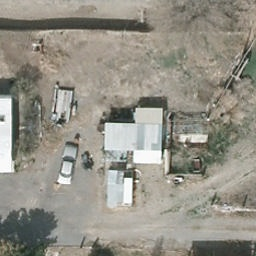camping car: (0, 94, 16, 175)
car: (55, 139, 80, 188)
